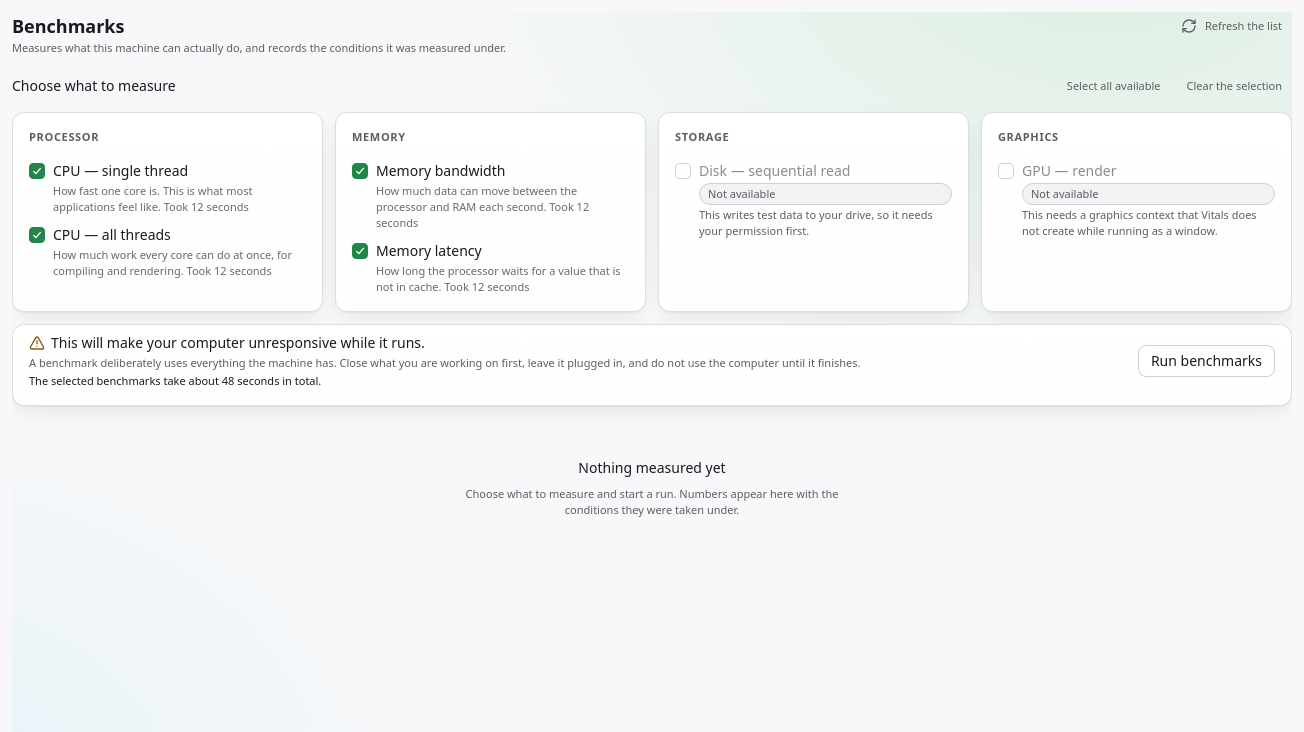
Scenario: BenchmarksScreen › while running › names the active benchmark and warns the numbers are not final
Check: the heading "Benchmarks" is shown, box [12,14,124,38]
Step 1. Click the button "Run benchmarks" → coordinates (1206, 361), box [1138,345,1275,377]
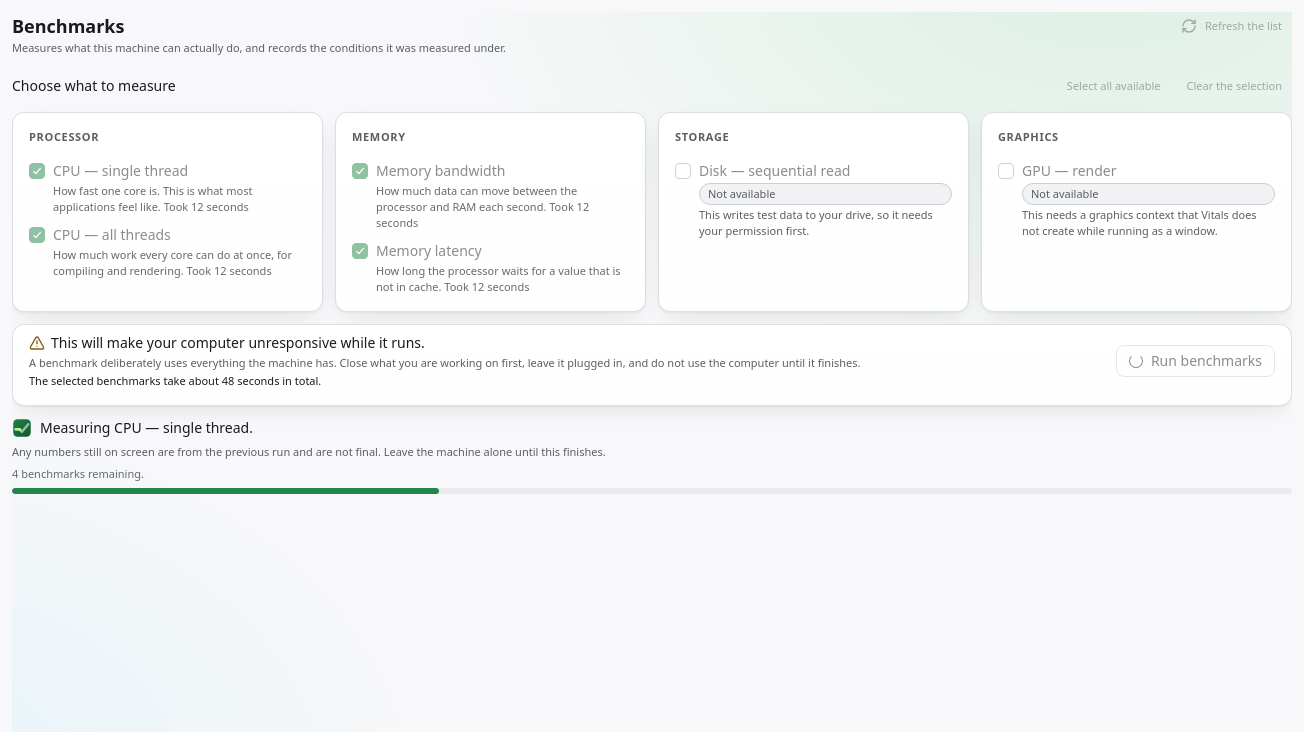
Check: the message named "Benchmark progress" shows "Measuring CPU — single thread", box [40,418,253,437]
Check: the message named "Benchmark progress" shows "not final", box [12,444,606,459]
